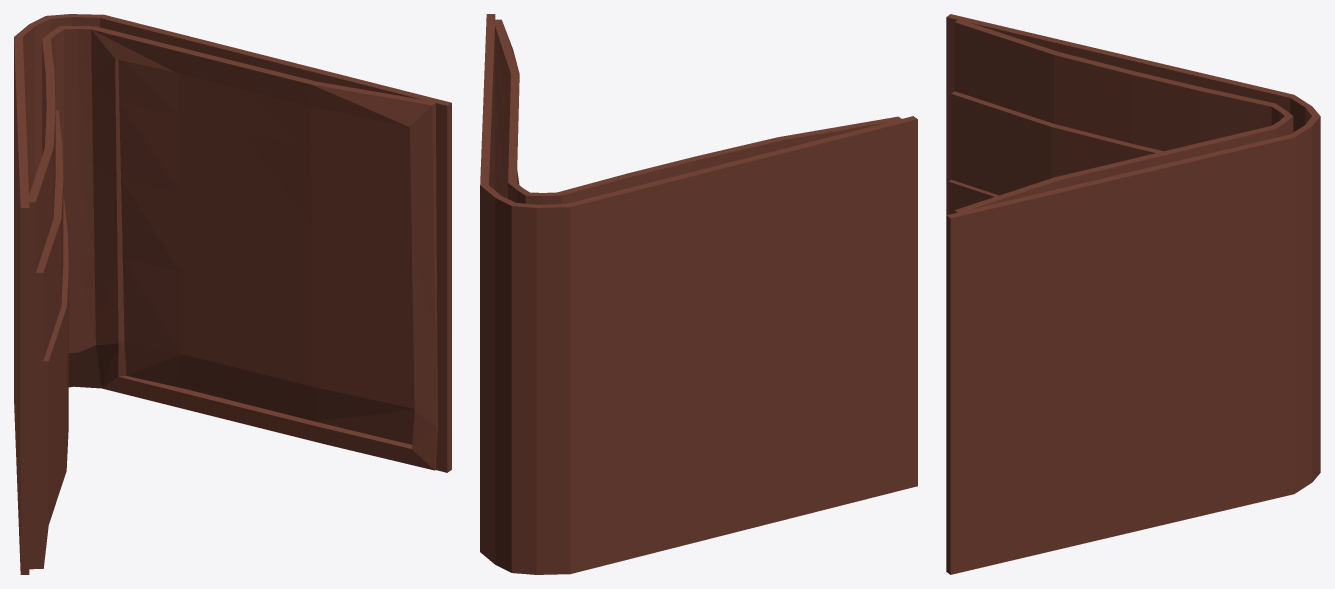
File: wallet.gltf
3 renders of one model, left to right at view 1: azimuth 30°, elevation 25°; view 2: azimuth 150°, elevation 25°; view 3: azimuth 270°, elevation 25°, orthographic. The views are drawn at different scales.
Parts seen in each view (by area): view 1: node-0; view 2: node-0; view 3: node-0.
Boxes of the visible parts, left/top/right/bottom form: node-0: left=14, top=14, right=451, bottom=574; node-0: left=480, top=14, right=917, bottom=574; node-0: left=946, top=14, right=1320, bottom=574.
Bounding box in the file's own units: 1.23 × 1 × 0.9511.
